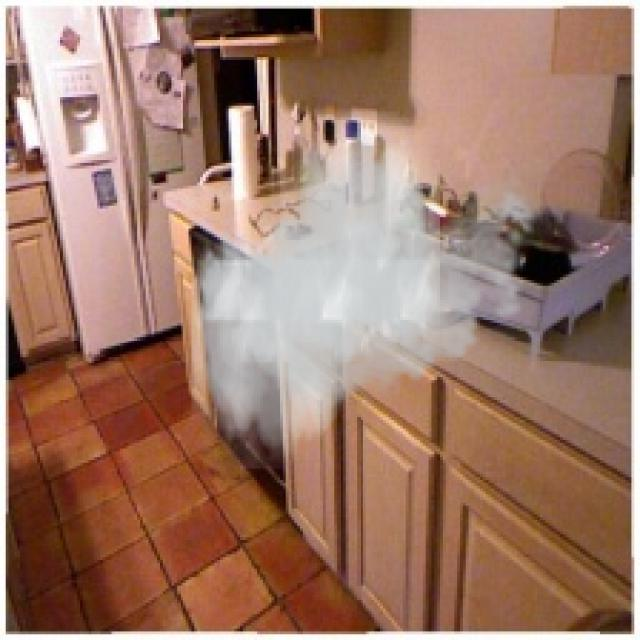smoke: (191, 111, 546, 468)
